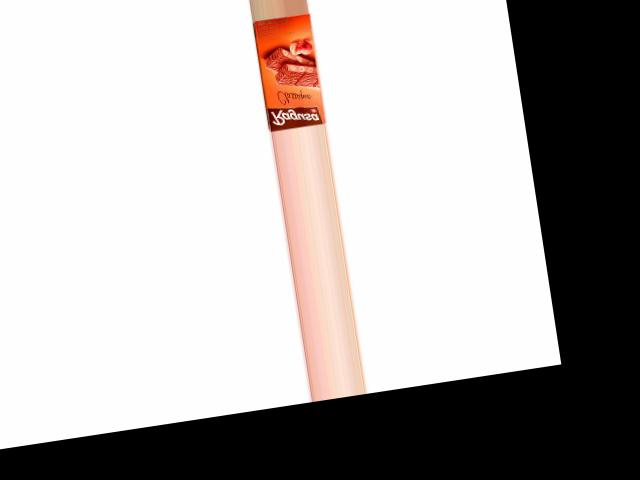chocolate: (249, 11, 332, 131)
